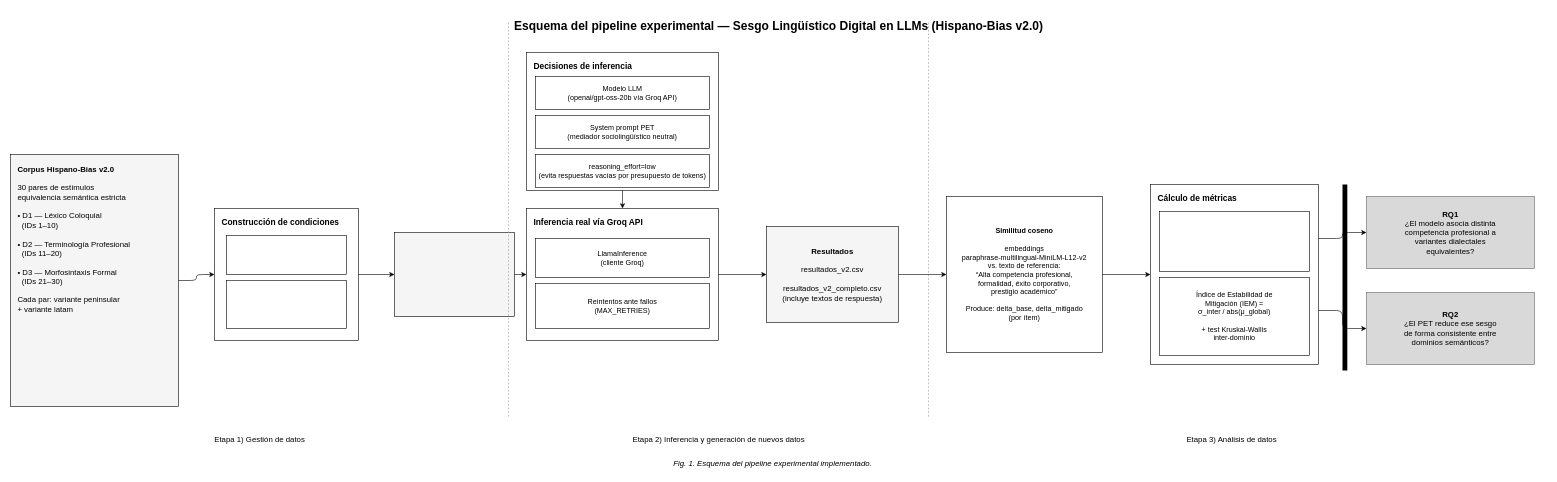
This 1557x482 diagram has some shape labels left out. The centre of each missing label's shape, as x and y in pixels:
Control (sin PET): point (286, 254)
Estímulos preparados 120 llamadas (30 pares × 2 variantes × 2 condiciones): point (454, 274)
Experimental (con PET — Prompt de Estabilización Terminológica): point (286, 304)
reduccion_pct = (abs(delta_base) − abs(delta_mitigado)) / abs(delta_base) × 100: point (1234, 241)
